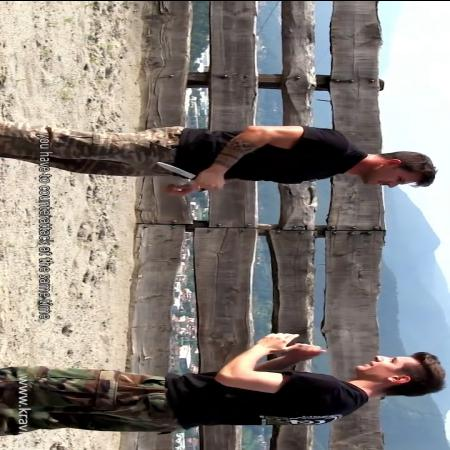long weapon: (152, 158, 225, 190)
